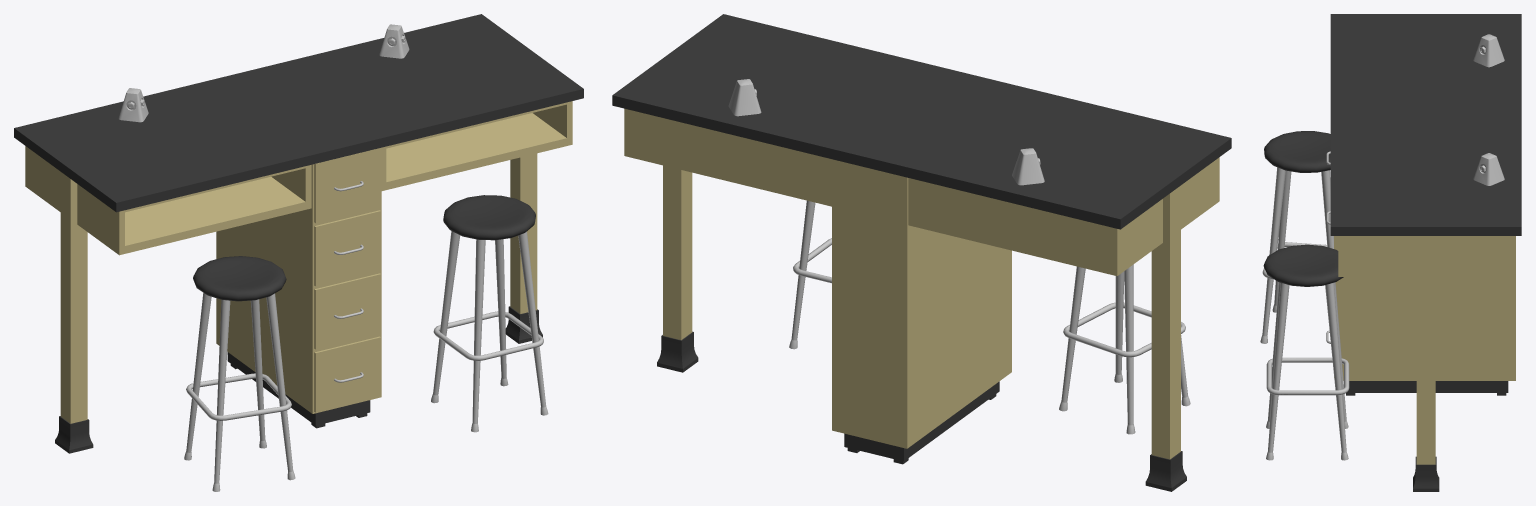
File: labDesk.dae
The picture shows the model from 3 angles, left to right: view 1: azimuth 30°, elevation 25°; view 2: azimuth 150°, elevation 25°; view 3: azimuth 270°, elevation 25°; orthographic projection. The views are drawn at different scales.
Visible parts, largest first — view 1: instance_1 (×11), group_0 (×4), instance_7 (×2), instance_10 (×2), instance_9 (×2), group_1 (×2), instance_8 (×2), instance_14, instance_11; view 2: instance_1 (×5), instance_8 (×2), instance_9, group_1, instance_14, instance_11, instance_10; view 3: instance_1 (×4), group_0 (×4), instance_10 (×2), instance_8 (×2), group_1, instance_7 (×2), instance_14, instance_11, instance_9.
Boxes of the visible parts, box(x1,y1,x2,y2) form: instance_1 (×11): box(14, 14, 583, 453); group_0 (×4): box(193, 195, 535, 301); instance_7 (×2): box(212, 239, 485, 491); instance_10 (×2): box(266, 231, 548, 480); instance_9 (×2): box(184, 231, 460, 460); group_1 (×2): box(186, 311, 543, 420); instance_8 (×2): box(250, 239, 508, 448); instance_14: box(379, 24, 409, 58); instance_11: box(118, 88, 148, 122); instance_1 (×5): box(612, 14, 1231, 491); instance_8 (×2): box(789, 200, 1085, 411); instance_9: box(1124, 264, 1135, 434); group_1: box(1063, 302, 1185, 357); instance_14: box(728, 79, 761, 116); instance_11: box(1012, 148, 1044, 185); instance_10: box(1114, 271, 1124, 382); instance_1 (×4): box(1330, 14, 1521, 491); group_0 (×4): box(1263, 131, 1343, 286); instance_10 (×2): box(1260, 167, 1289, 460); instance_8 (×2): box(1321, 170, 1348, 460); group_1: box(1266, 357, 1349, 395); instance_7 (×2): box(1266, 170, 1291, 428); instance_14: box(1473, 153, 1504, 185); instance_11: box(1473, 34, 1504, 67); instance_9: box(1334, 282, 1348, 428).
Bounding box in the file's own units: 79.06 × 40.44 × 49.35.
